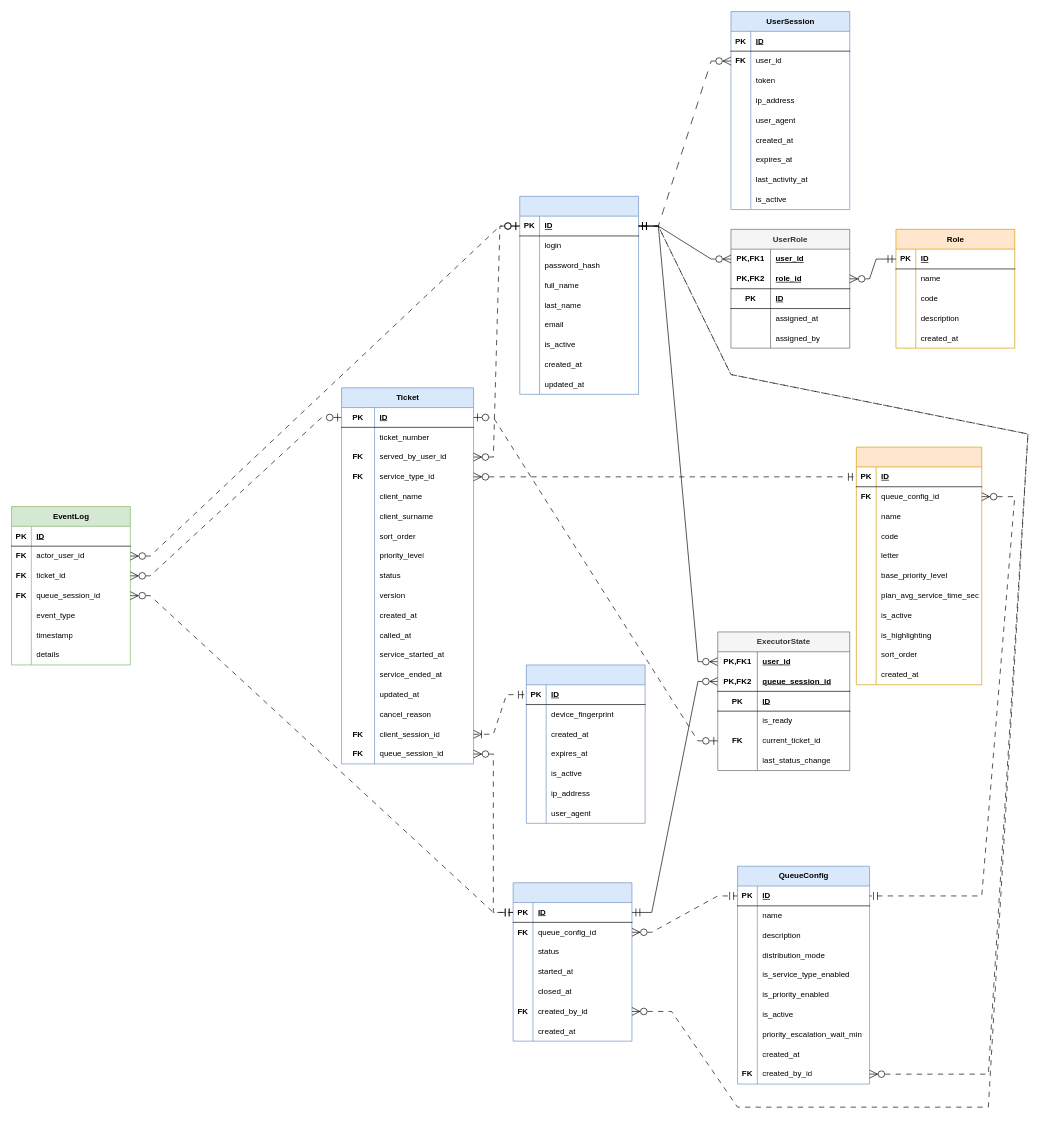
The diagram is 1048 pixels wide and 1127 high, and some of its shapes have lost their labels. The shapes that lost their labels are listed below. From the top down, each one's box as (x1, y1, x2, y2) in pixels, then its label:
(519, 196, 639, 394): User
(856, 446, 982, 685): ServiceType
(526, 664, 645, 823): ClientSession
(512, 882, 632, 1041): QueueSession
